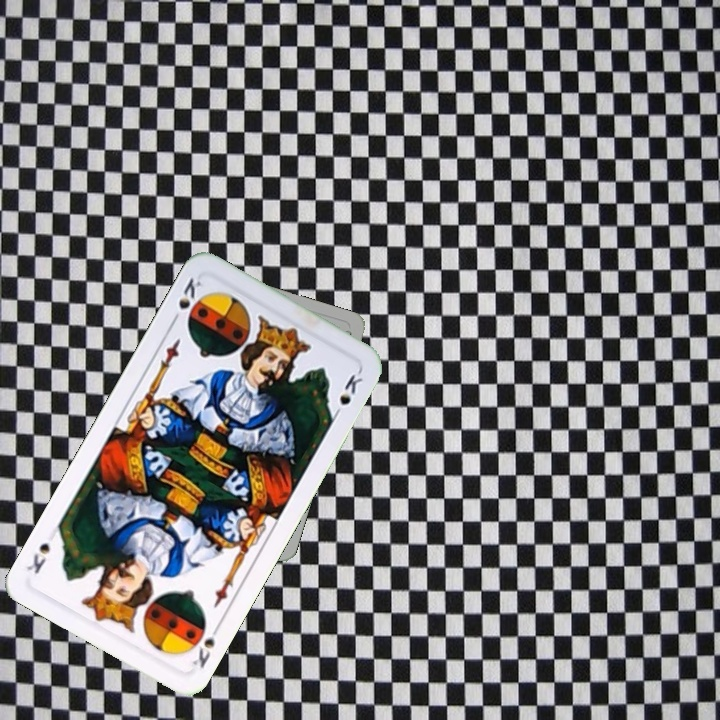SK: (184, 617, 224, 671), (167, 273, 205, 327)
